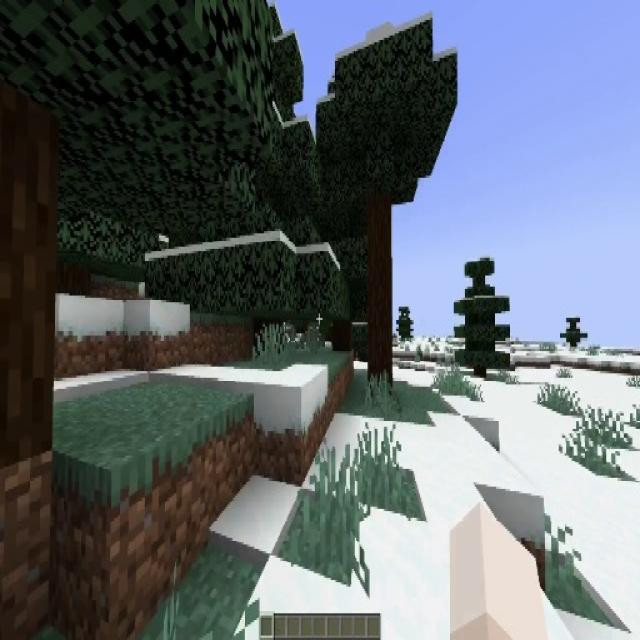spruce: (318, 22, 454, 396), (456, 252, 510, 381), (560, 311, 586, 349), (397, 307, 414, 340)
spruce_log: (368, 202, 391, 390), (332, 321, 351, 352)
